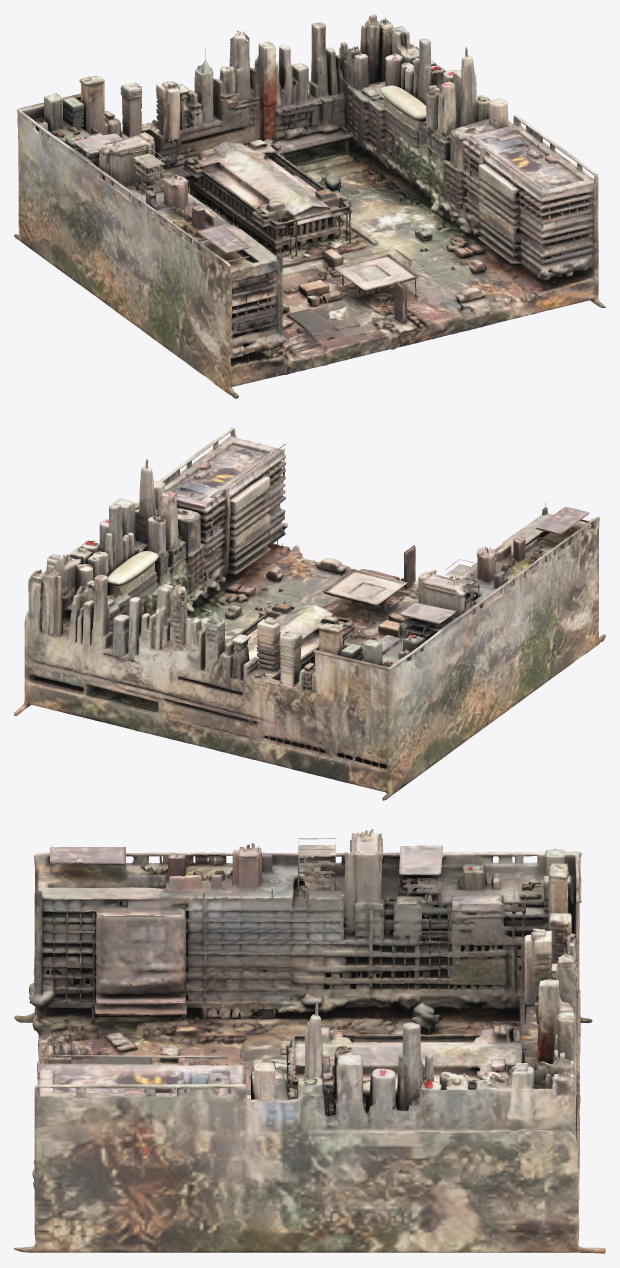
The model's file is base_basic_shaded.glb.
3 renders of one model, top to bottom at view 1: azimuth 30°, elevation 25°; view 2: azimuth 150°, elevation 25°; view 3: azimuth 270°, elevation 25°, orthographic. The views are drawn at different scales.
Parts seen in each view (by area): view 1: model; view 2: model; view 3: model.
Part boxes in pixels (x1,y1,x2,y2): model: [14, 14, 605, 398]; model: [14, 427, 605, 800]; model: [14, 829, 605, 1253].
Size of the model in its own units: 212 by 100 by 227.
Materials: 1 (1 with a texture image).
